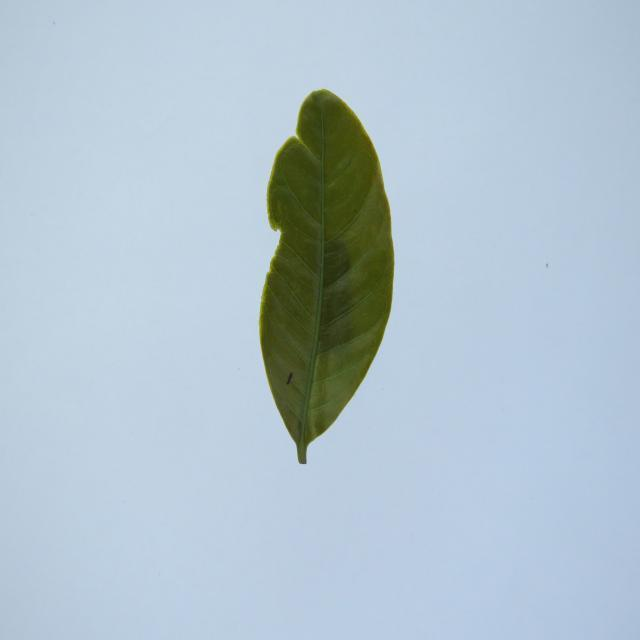DeficienciaNutricional-Boro: (260, 90, 394, 463)
